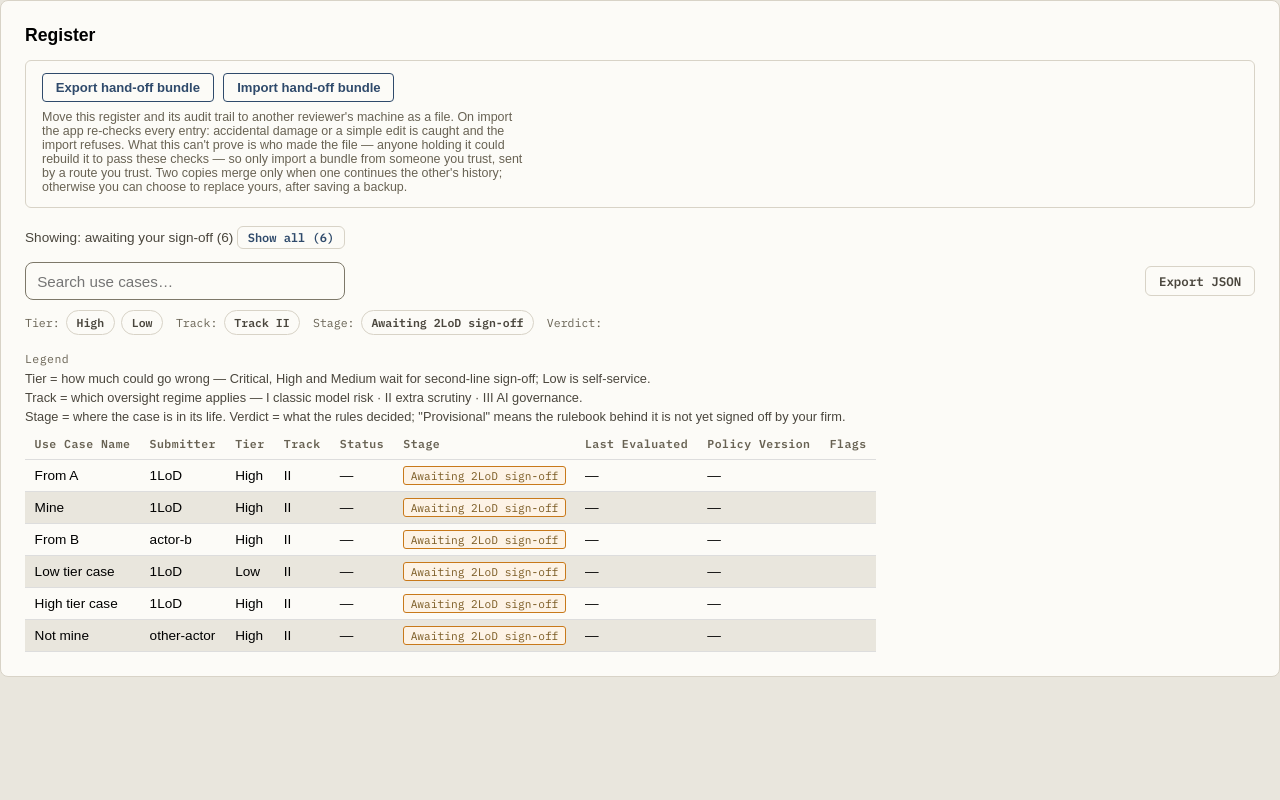
Test: RegisterView › TC-RG-3-01: 2LoD tier filter chip narrows the visible rows
The width and height of the screenshot is (1280, 800).
Expected: the button "High tier case" is shown, [35, 596, 118, 610]
Expected: the button "Low tier case" is shown, [35, 564, 115, 578]
Click the button "High".
click(90, 322)  # box [66, 310, 115, 335]
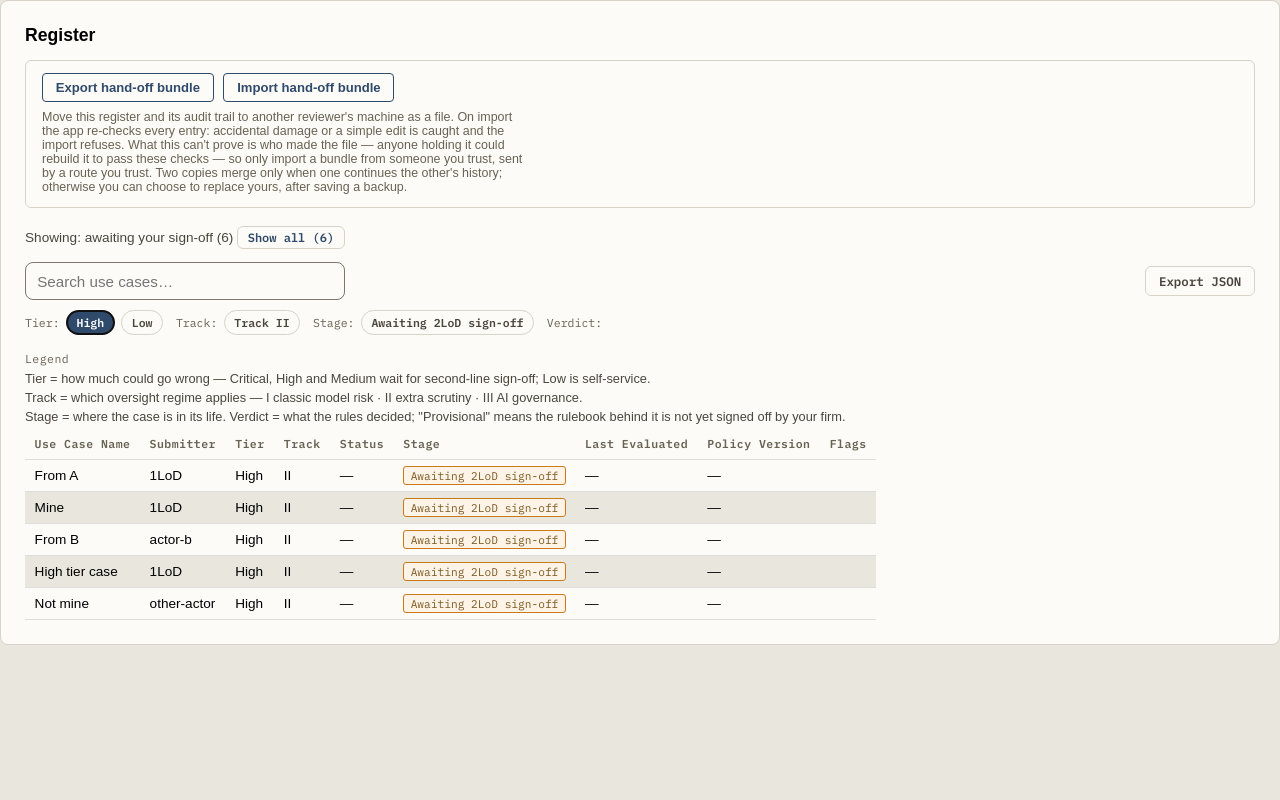
Expected: the button "High tier case" is shown, [35, 564, 118, 578]
Result: the button "Low tier case" is gone
